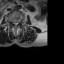CCS_normal: (14, 20, 16, 29)
LFS_stenosis: (18, 20, 20, 25)
LLS_normal: (16, 21, 18, 27)
RFS_severe_stenosis: (11, 20, 13, 25)
RLS_stenosis: (13, 21, 14, 26)
